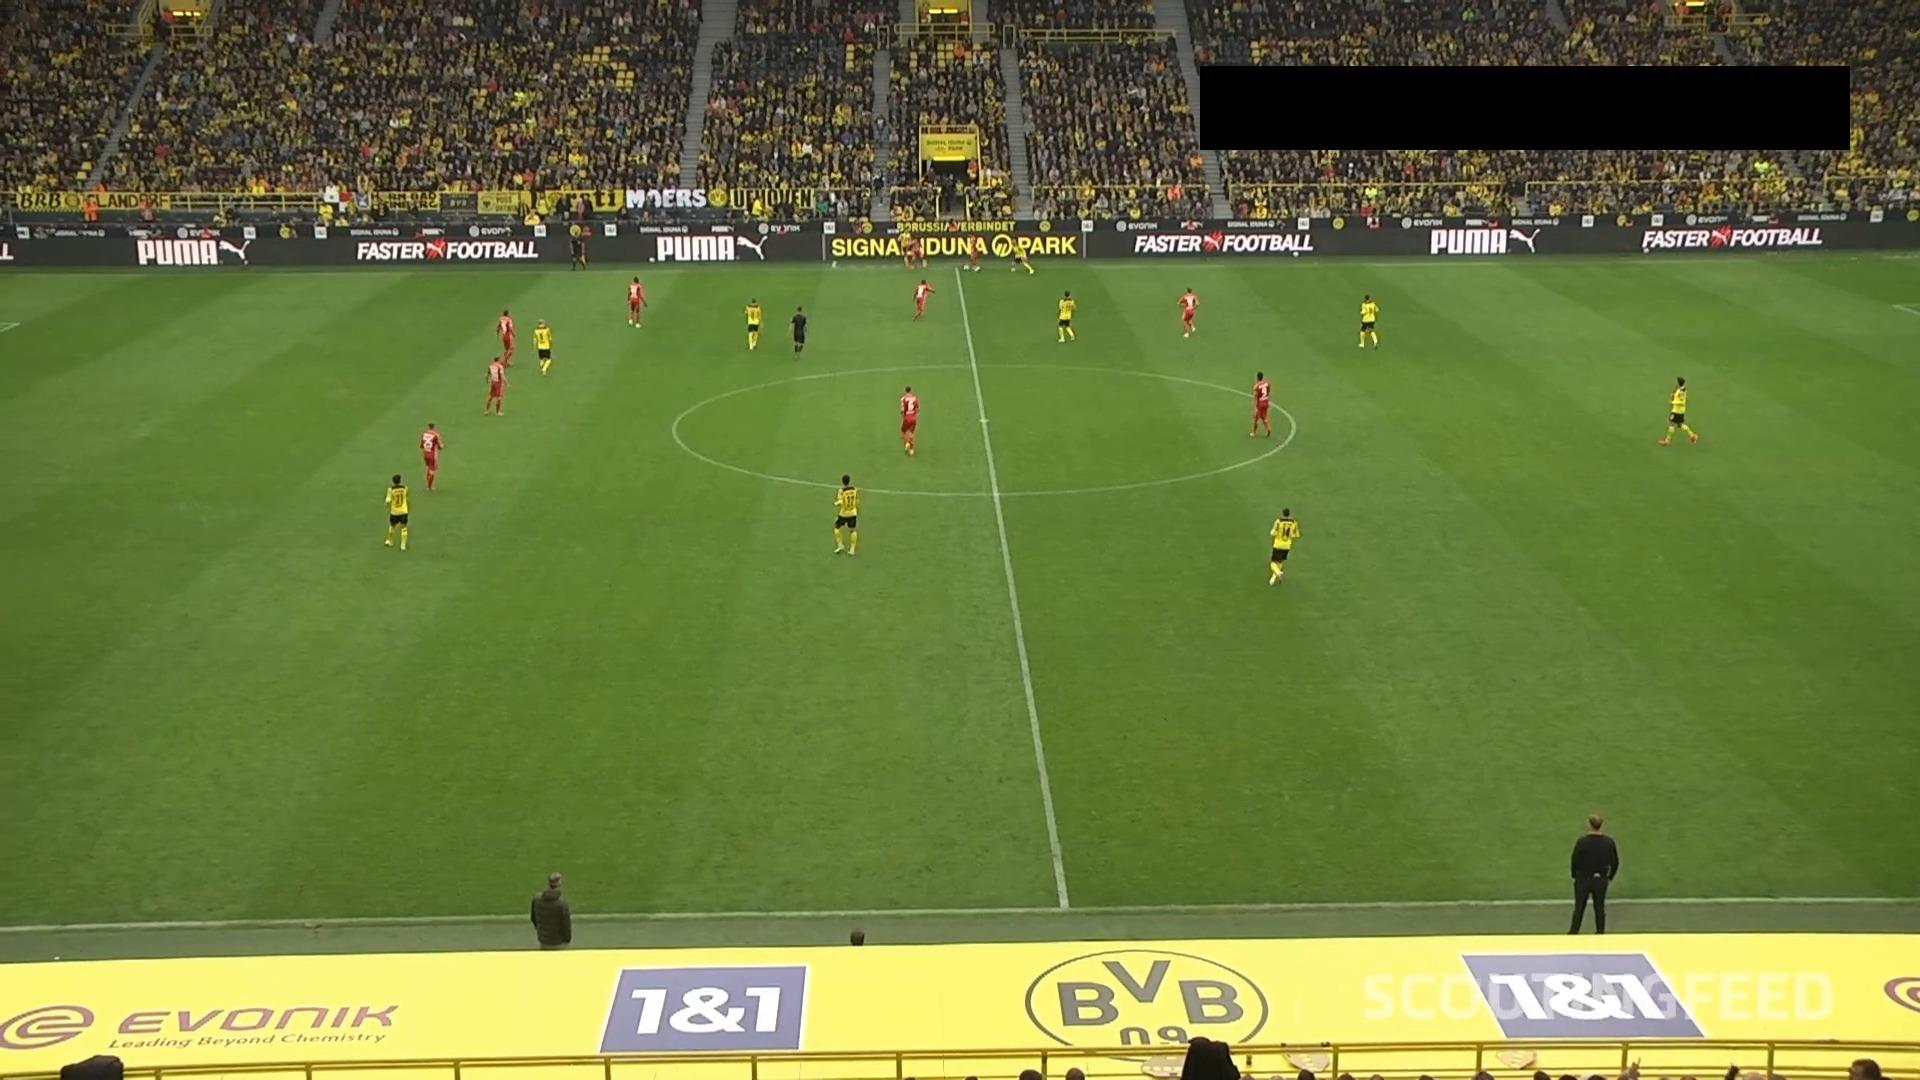ball: (963, 262, 971, 272)
